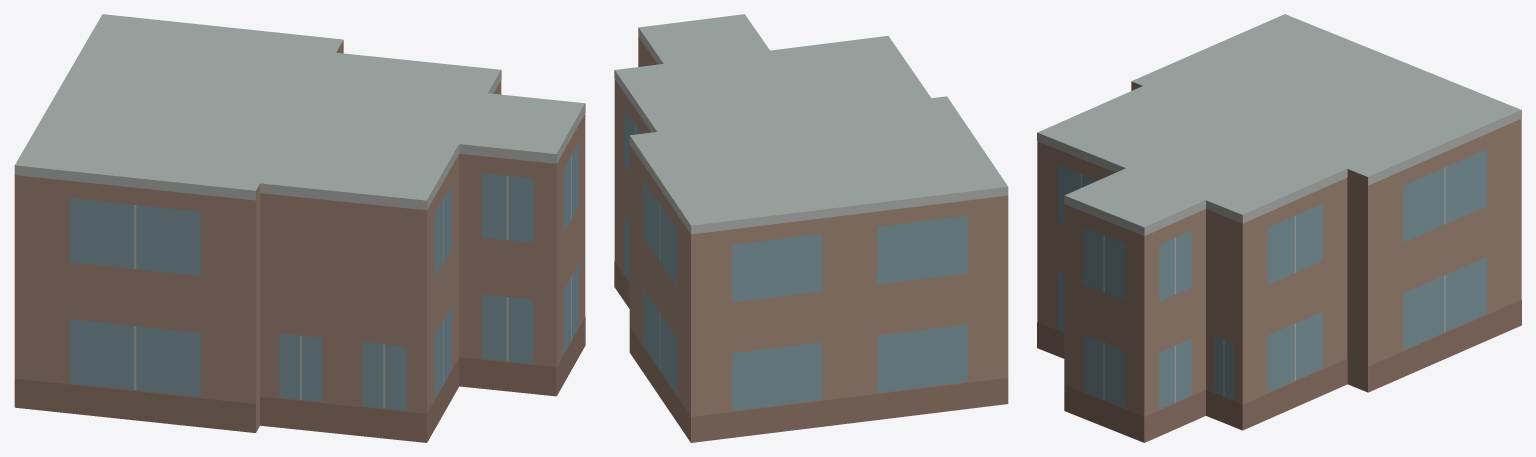
Rendered from survey-upis-32655603.glb.
3 views of the same model, side by side, from view 1: azimuth 30°, elevation 25°; view 2: azimuth 150°, elevation 25°; view 3: azimuth 270°, elevation 25° (orthographic). The views are drawn at different scales.
Visible parts, largest first — view 1: survey-upis-32655603.tmp; view 2: survey-upis-32655603.tmp; view 3: survey-upis-32655603.tmp.
Part boxes in pixels (box(x1,y1,x2,y2)): survey-upis-32655603.tmp: box(14, 14, 585, 442); survey-upis-32655603.tmp: box(614, 14, 1008, 442); survey-upis-32655603.tmp: box(1037, 14, 1521, 442).
Bounding box in the file's own units: 12.97 × 6.1 × 12.44.
